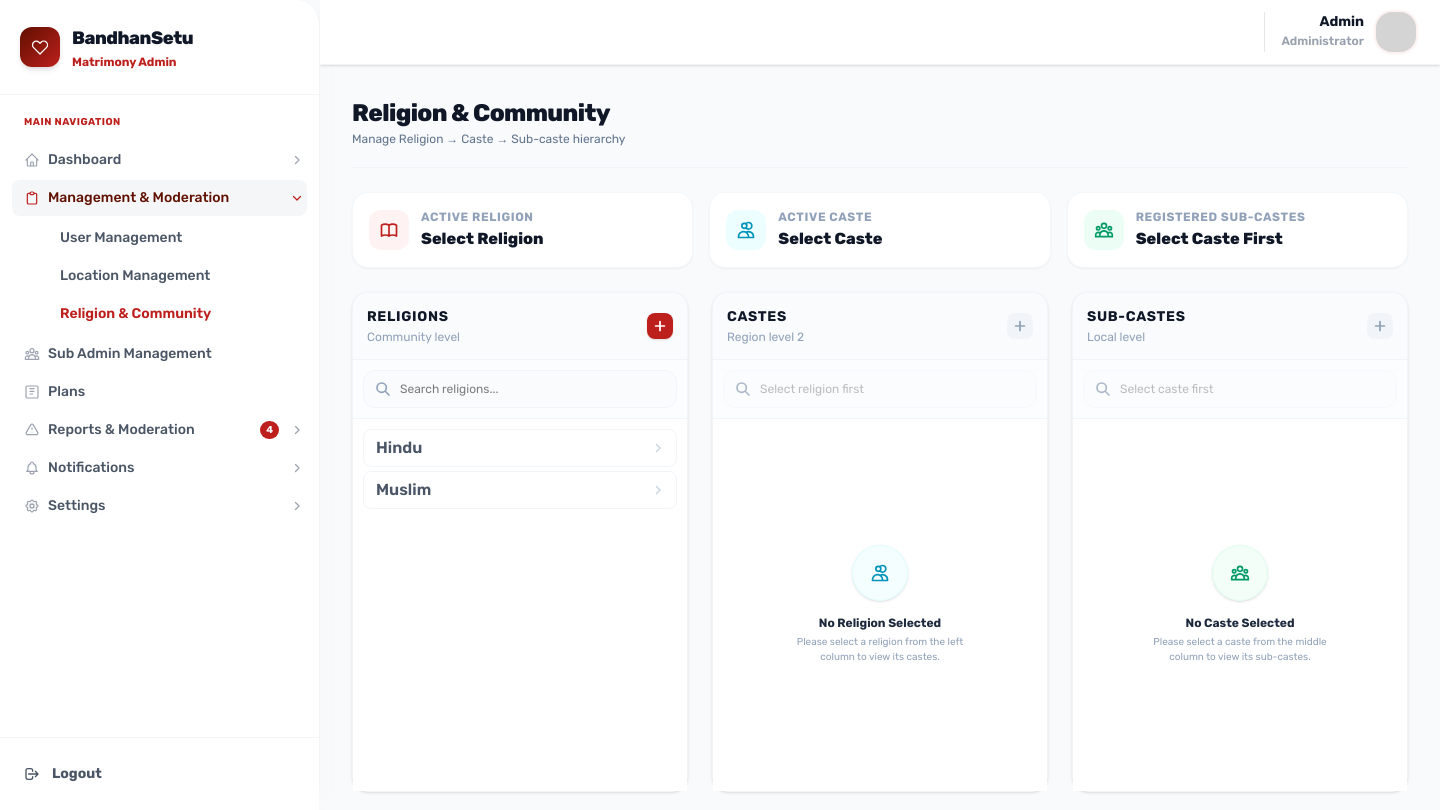
Scenario: Religion Management Integration › opens add religion modal
Expected: the text "Hindu" is shown, [376,436,422,460]
Click the button titled "add new religion" at (660, 326), box [647,313,673,339]
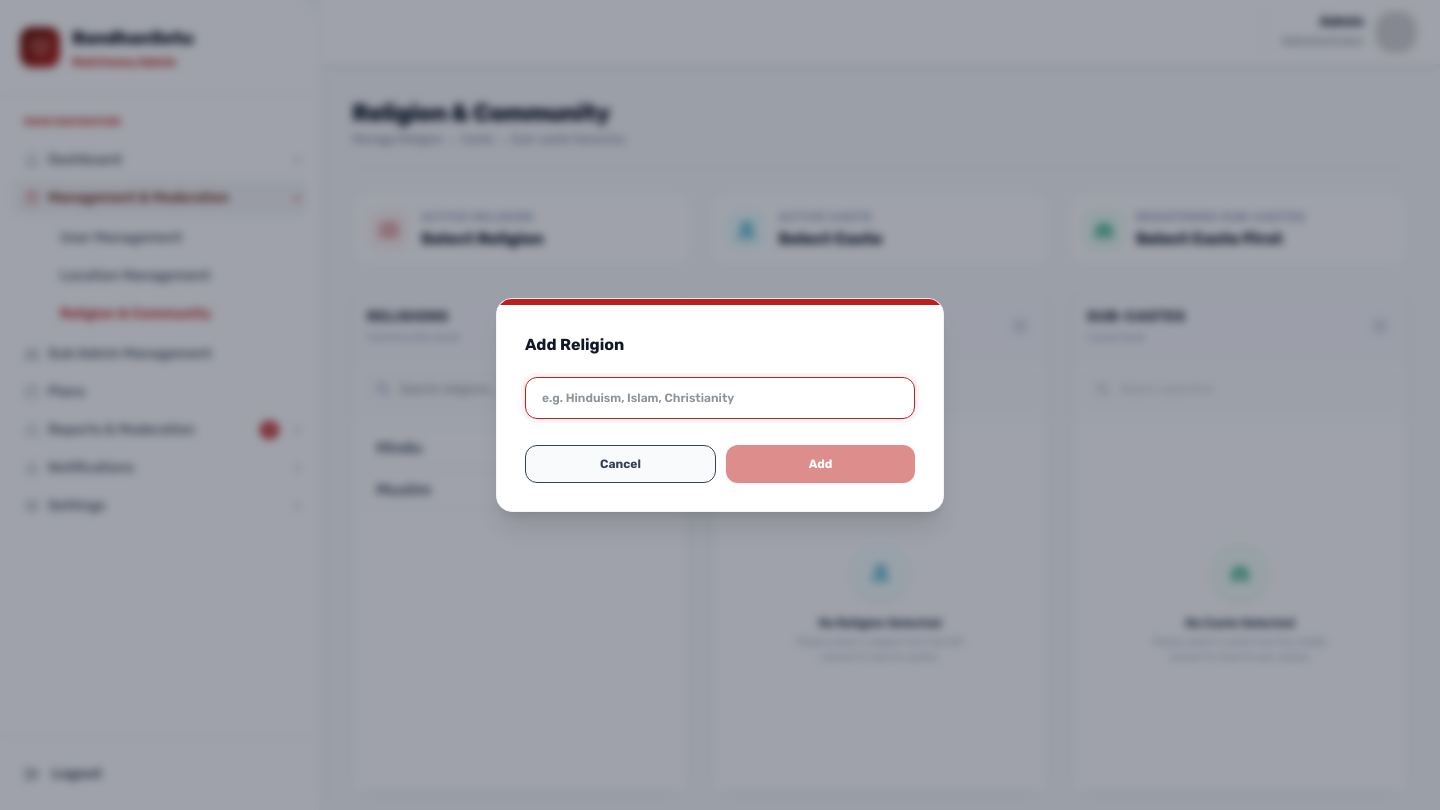
Expected: the heading "Add Religion" is shown, [525,335,624,354]
